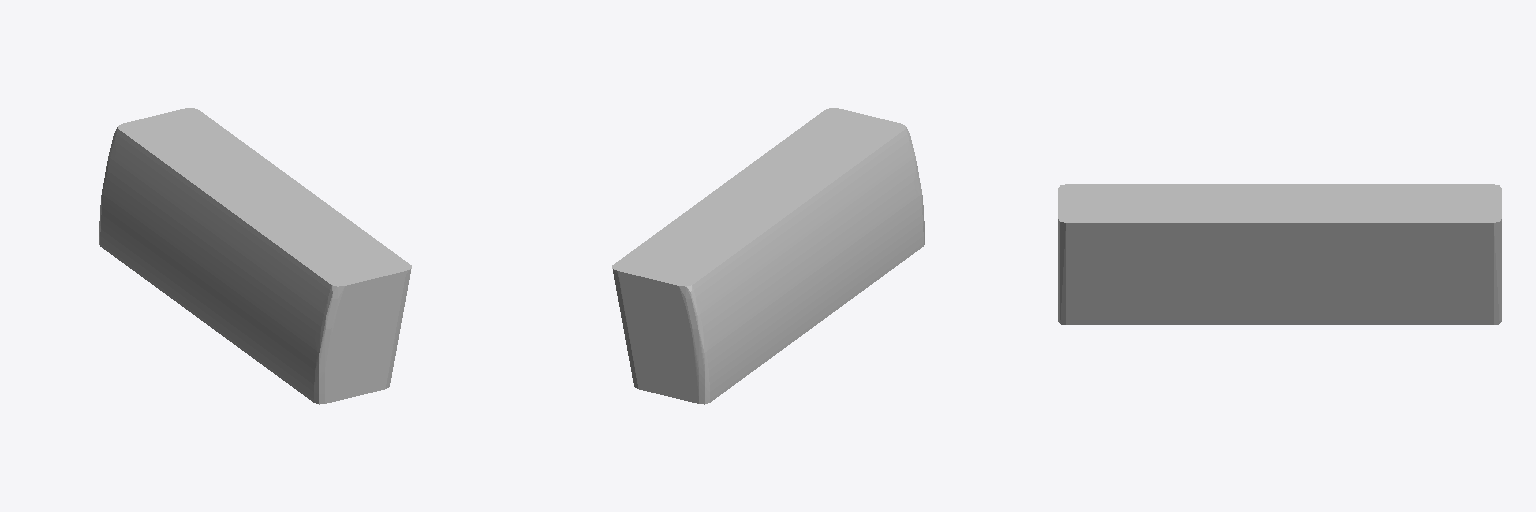
Rendered from Cylinder_with_Hole_collision_13.obj.
The picture shows the model from 3 angles: view 1: azimuth 30°, elevation 25°; view 2: azimuth 150°, elevation 25°; view 3: azimuth 270°, elevation 25°; orthographic projection.
Size of the model in its own units: 36.34 by 40.23 by 143.